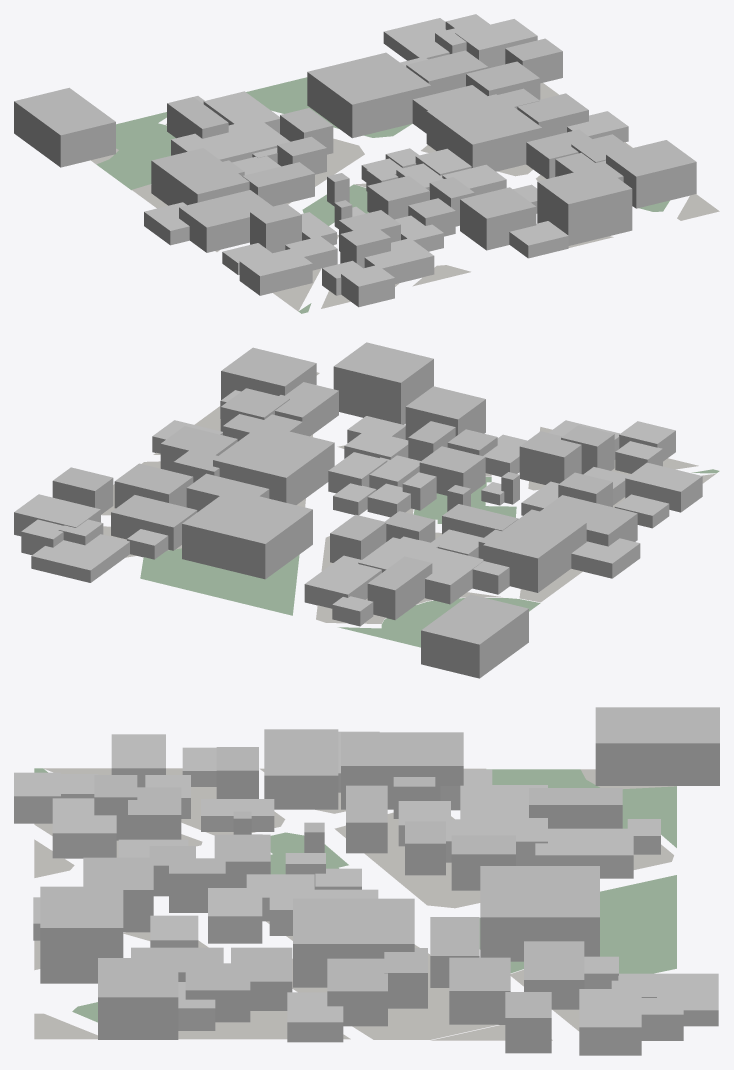
The model's file is 109_107_mid.glb.
3 views of the same model, one above another, from view 1: azimuth 30°, elevation 25°; view 2: azimuth 150°, elevation 25°; view 3: azimuth 270°, elevation 25° (orthographic). The views are drawn at different scales.
Size of the model in its own units: 563 by 49.45 by 549.
